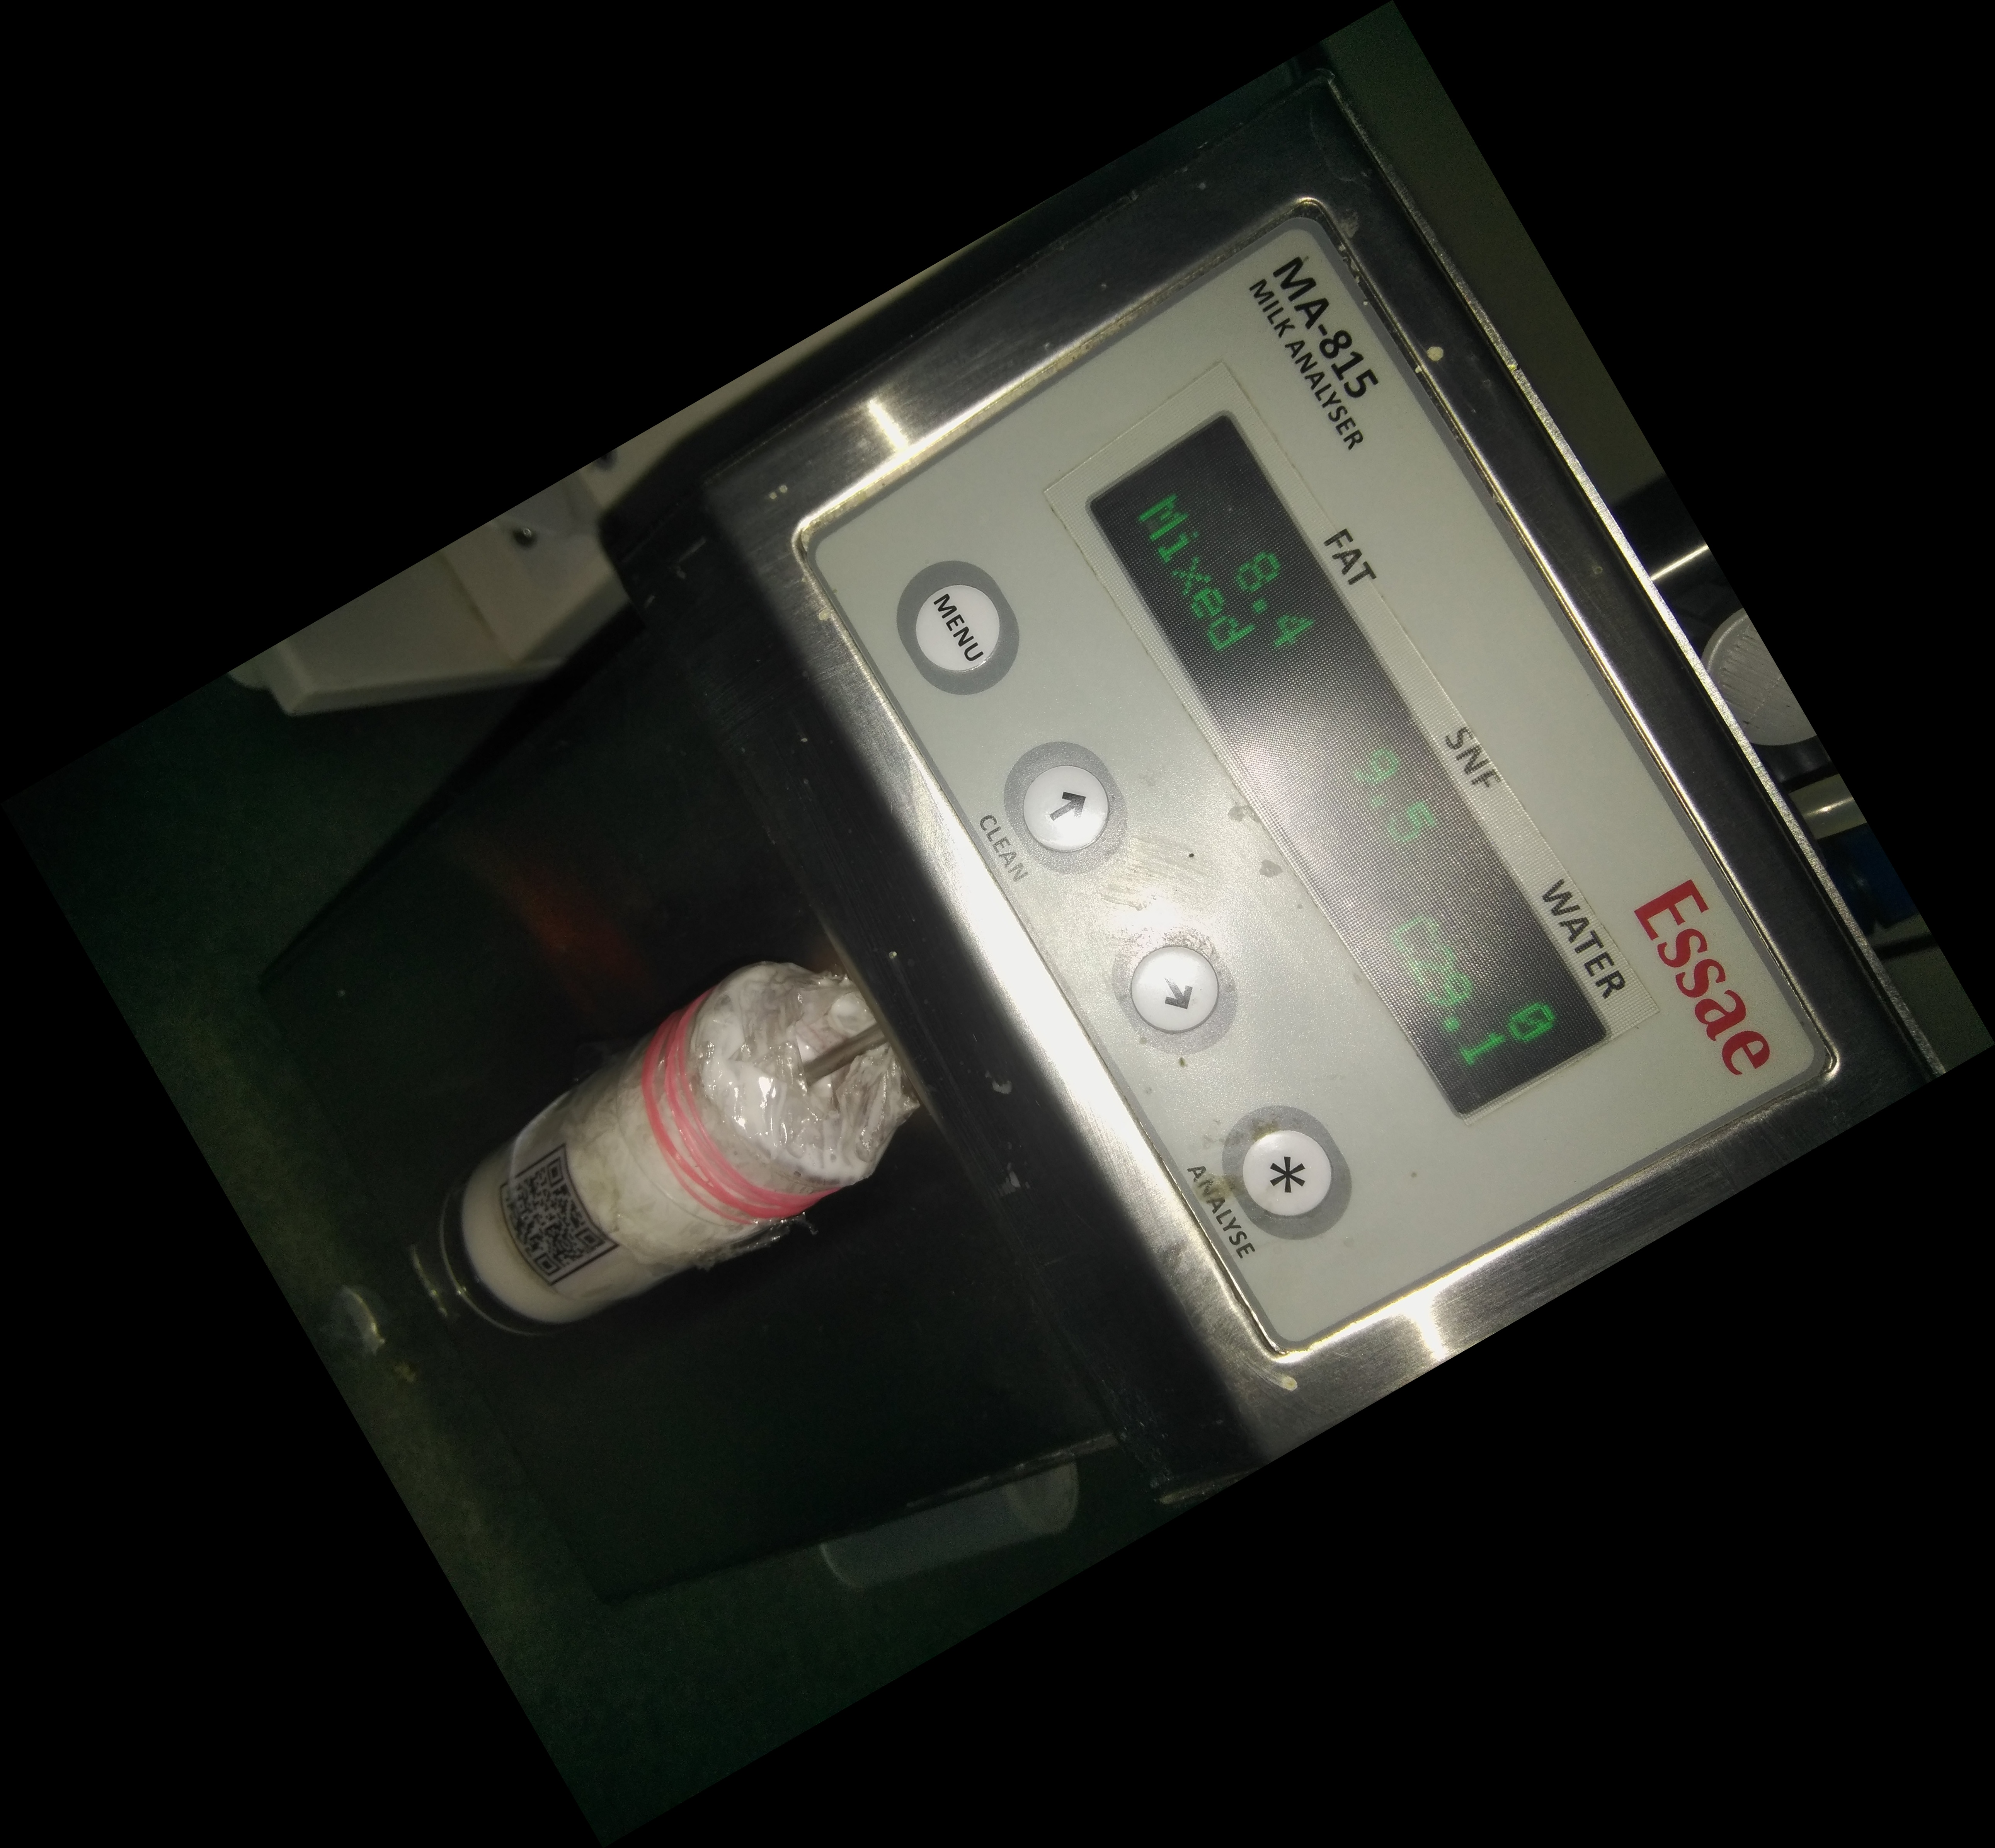lcd: (1088, 379, 1640, 1135)
qr: (497, 1153, 636, 1295)
